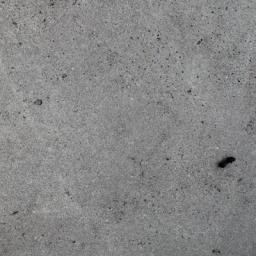FOD: (216, 155, 239, 173)
